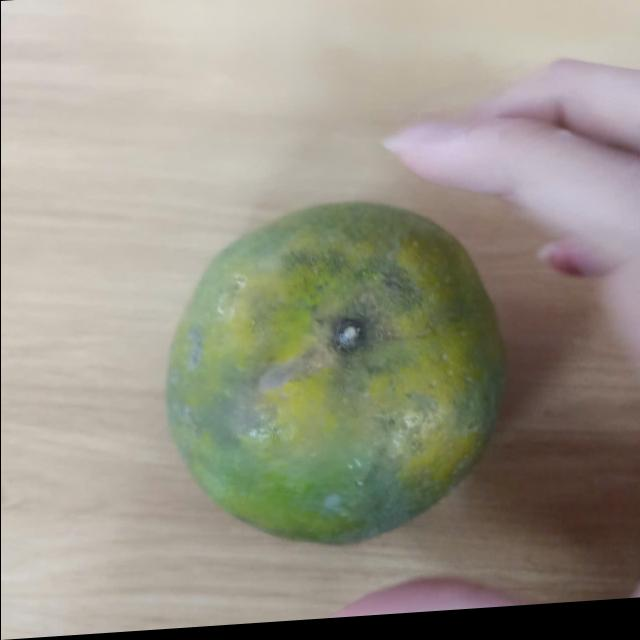Cam: (157, 197, 509, 560)
